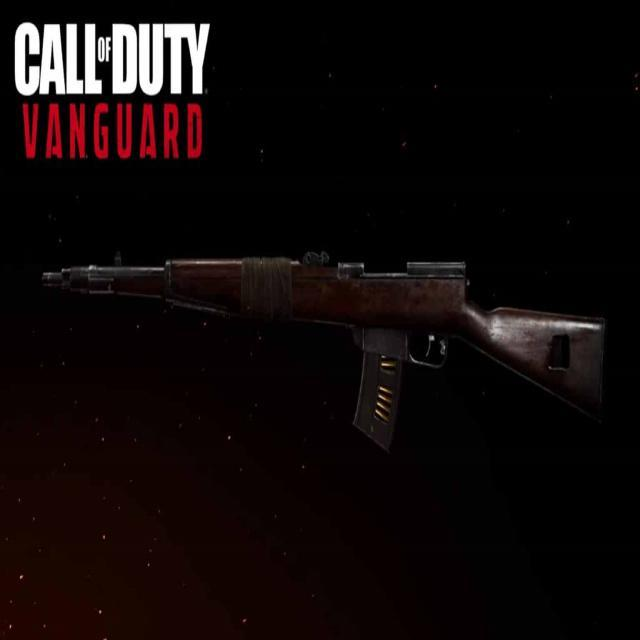weapon: (41, 251, 608, 462)
